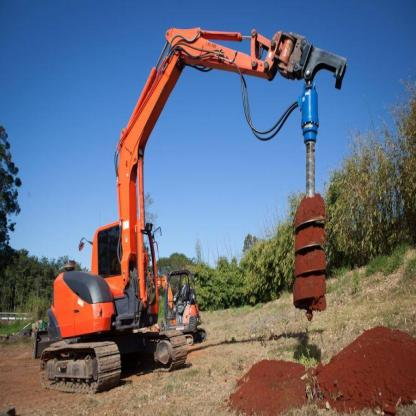excavator: (9, 15, 346, 378)
